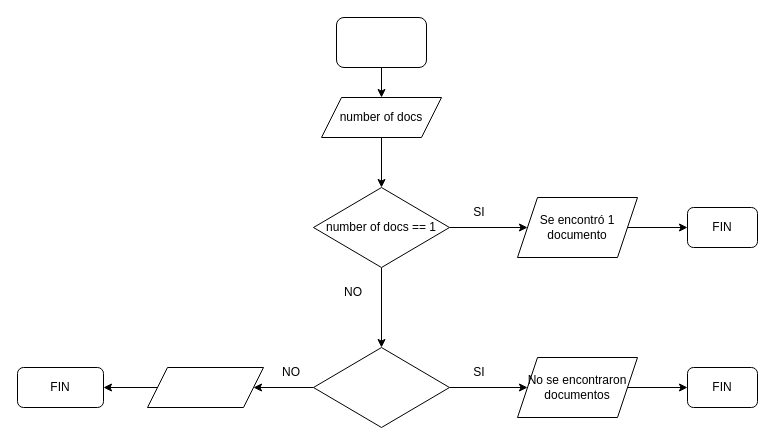
Some shapes in this 775 by 445 pixel diagram are drawn without their labels. The box of each missing label's shape, as (x1, y1, x2, y2) in pixels:
... documentos encontrados: (146, 366, 264, 408)
INICIO: (336, 16, 426, 68)
number of docs <=0: (312, 346, 450, 428)
